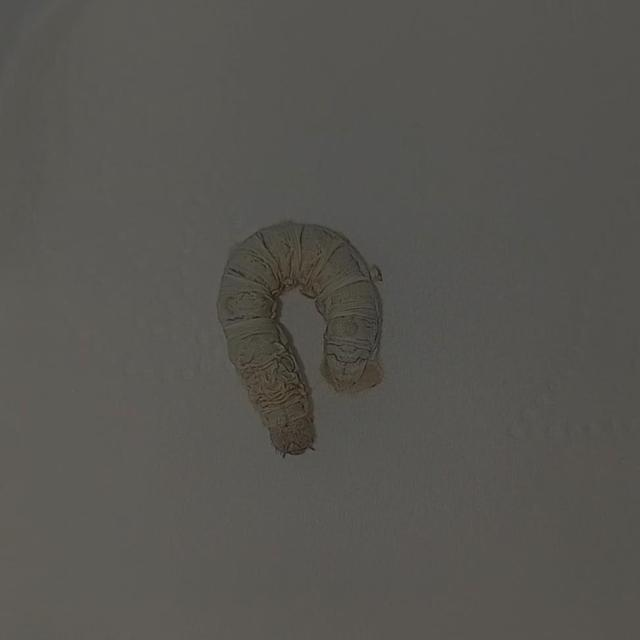Healthy: (211, 211, 392, 469)
